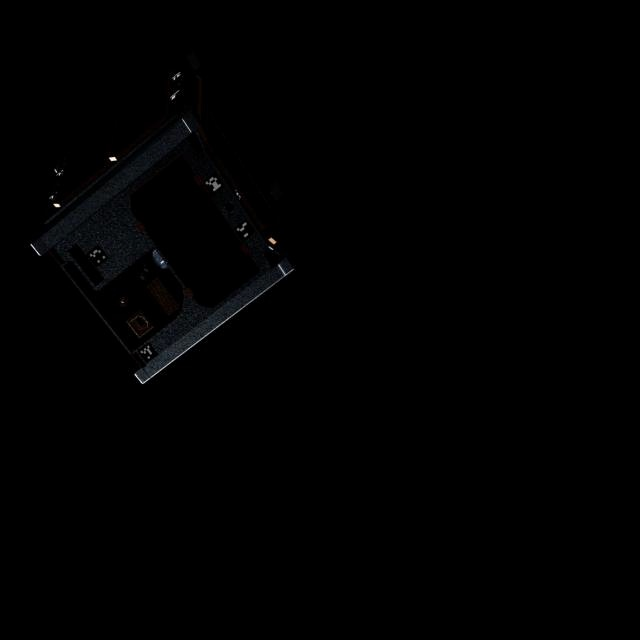satellite: (28, 36, 300, 388)
